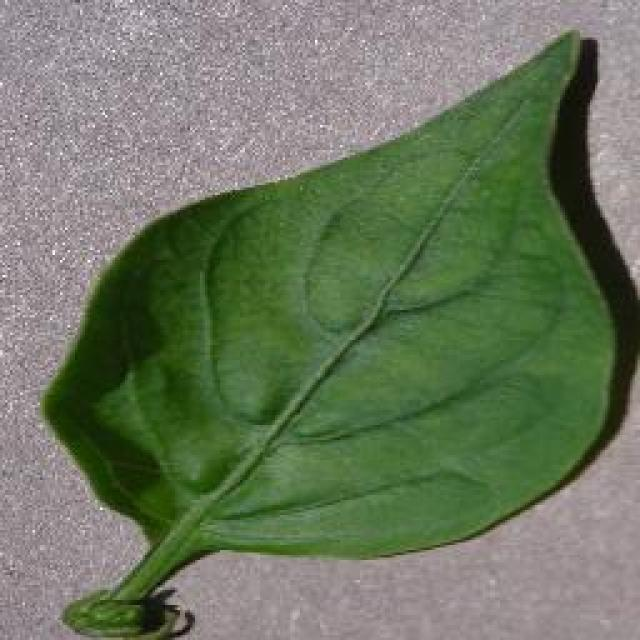Leaf: (32, 12, 622, 640)
